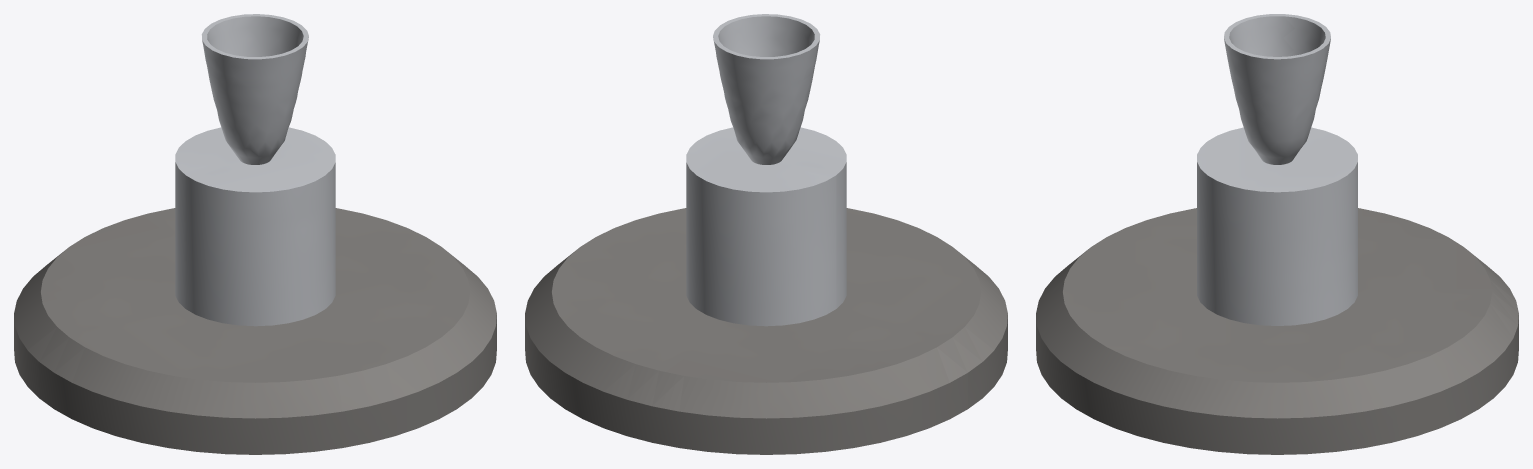
The model's file is ax_util_10_cold_gas_thruster.glb.
3 views of the same model, side by side, from view 1: azimuth 30°, elevation 25°; view 2: azimuth 150°, elevation 25°; view 3: azimuth 270°, elevation 25° (orthographic).
Parts seen in each view (by area): view 1: mount_flange, valve_body, nozzle; view 2: mount_flange, valve_body, nozzle; view 3: mount_flange, valve_body, nozzle.
Part boxes in pixels (box(x1,y1,x2,y2)): mount_flange: box(14, 208, 496, 454); valve_body: box(175, 127, 335, 326); nozzle: box(201, 14, 308, 164); mount_flange: box(525, 208, 1007, 454); valve_body: box(686, 127, 846, 326); nozzle: box(713, 14, 820, 164); mount_flange: box(1036, 208, 1518, 454); valve_body: box(1197, 127, 1357, 325); nozzle: box(1224, 14, 1330, 164).
Size of the model in its own units: 0.1798 by 0.13 by 0.1799.
Materials: 2 (2 with a texture image).
